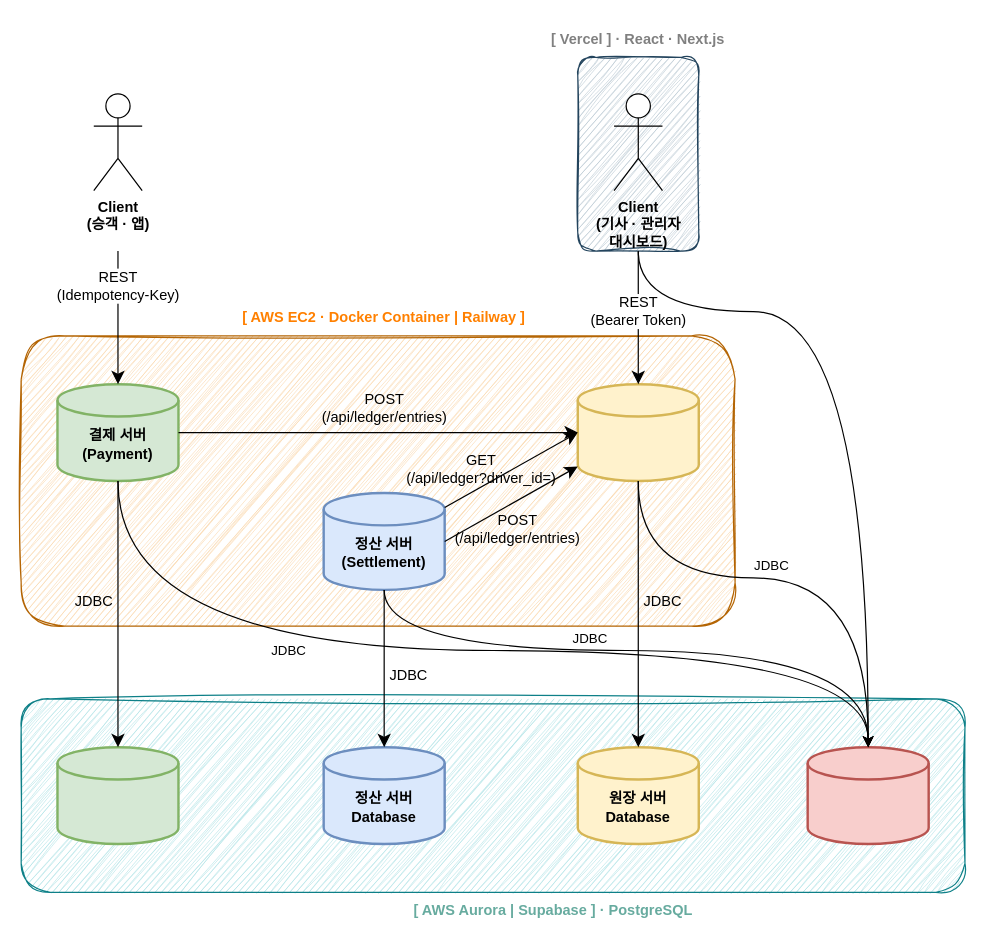
This 986x949 diagram has some shape labels left out. The centre of each missing label's shape, as x and y in pixels:
"결제 서버 Database" belongs at pixel 117 795.
"로그인 Database" belongs at pixel 867 795.
"원장 서버 (Ledger)" belongs at pixel 637 432.
